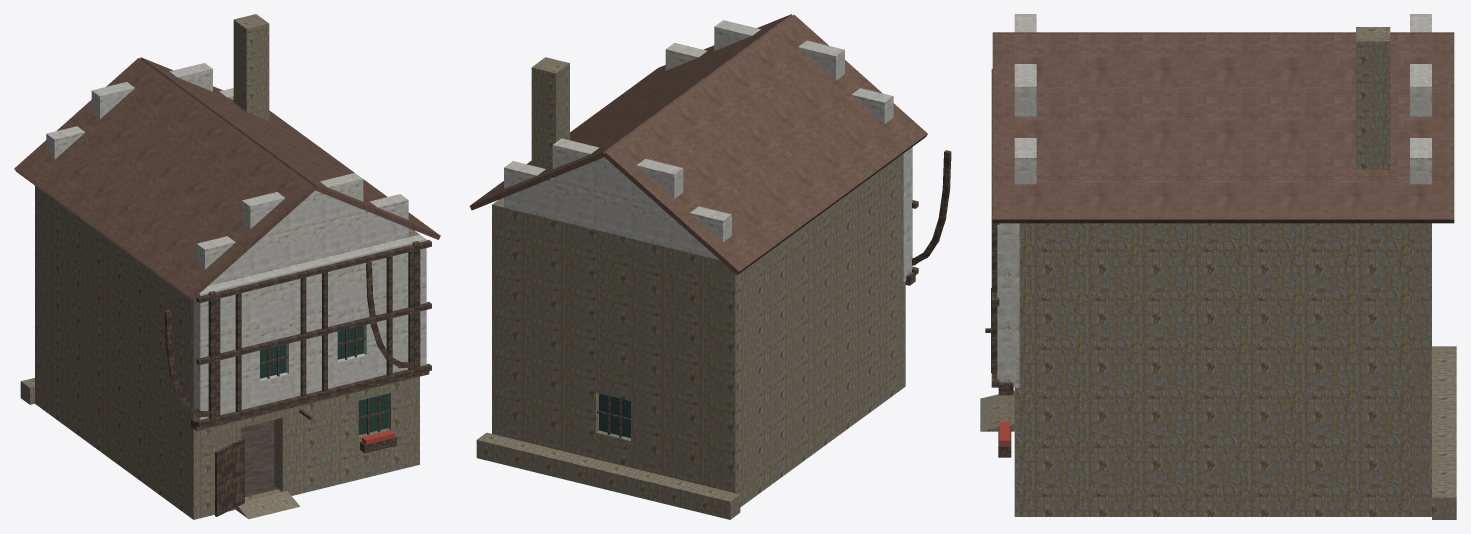
Rendered from prop_hk_house_c.glb.
3 renders of one model, left to right at view 1: azimuth 30°, elevation 25°; view 2: azimuth 150°, elevation 25°; view 3: azimuth 270°, elevation 25°, orthographic. The views are drawn at different scales.
Parts seen in each view (by area): view 1: building_hk_rowhouse_c; view 2: building_hk_rowhouse_c; view 3: building_hk_rowhouse_c.
Boxes of the visible parts, left/top/right/bottom form: building_hk_rowhouse_c: left=14, top=14, right=440, bottom=519; building_hk_rowhouse_c: left=469, top=14, right=951, bottom=519; building_hk_rowhouse_c: left=980, top=14, right=1456, bottom=519.
Bounding box in the file's own units: 8.46 × 10.38 × 9.7.
Materials: 7 (7 with a texture image).
